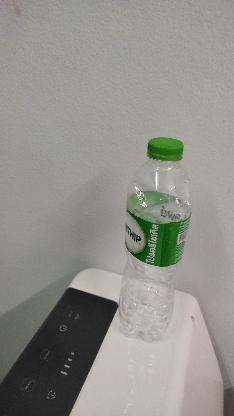Plastic Bottle: (118, 122, 196, 346)
